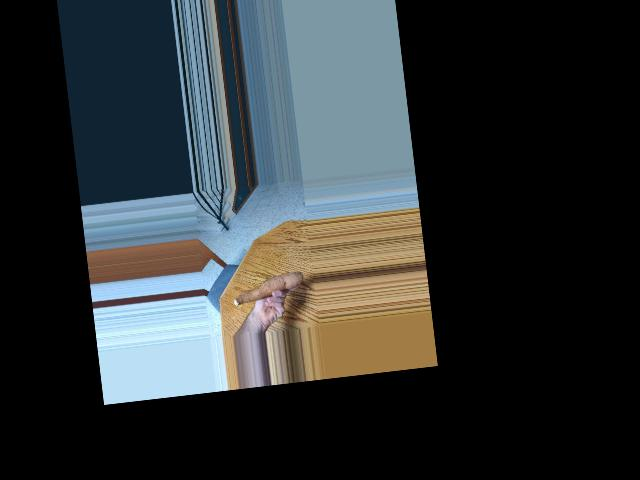sweet_potato: (230, 268, 304, 309)
